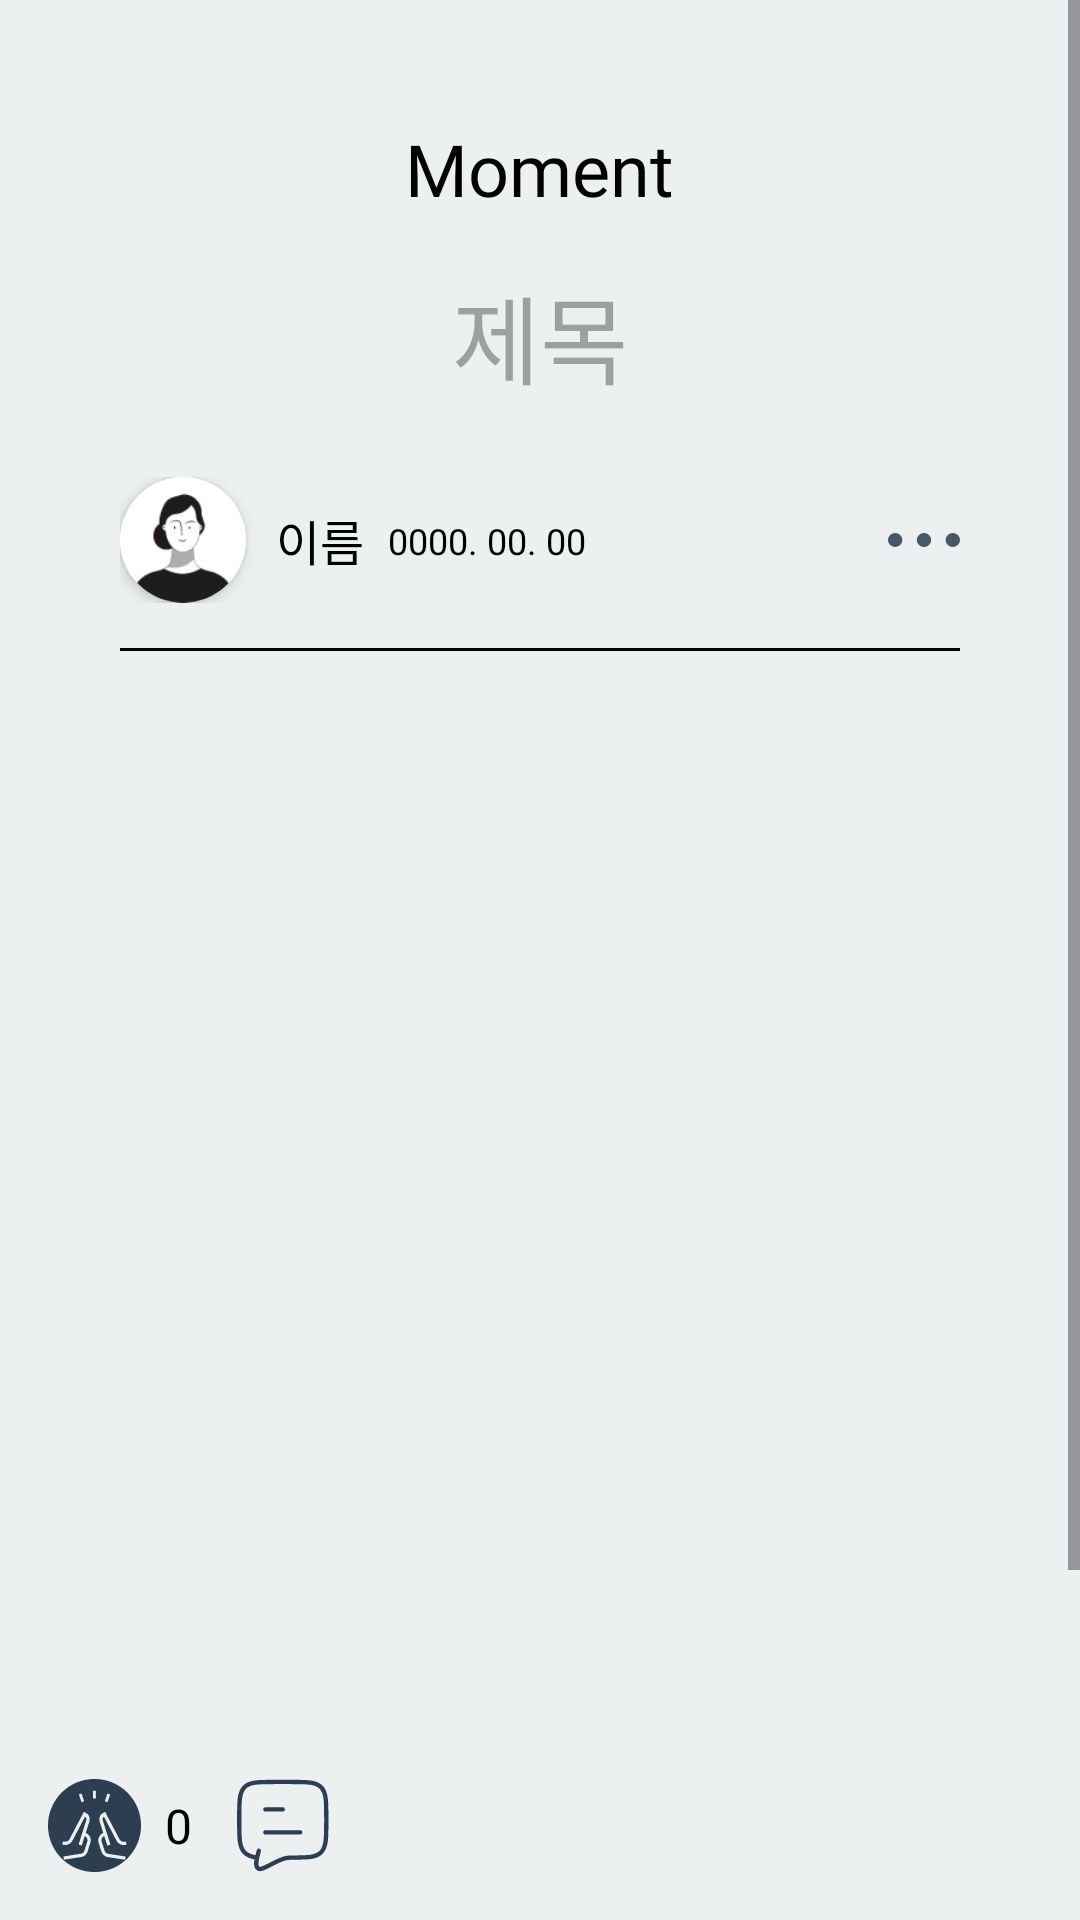

Icon bounding boxes for this 1080px x 1920px phone screenshot, format (x1, y1, x2, y2):
friend: (120, 477, 246, 603)
hand: (48, 1779, 141, 1872)
more: (888, 533, 960, 547)
reply: (237, 1779, 329, 1872)
